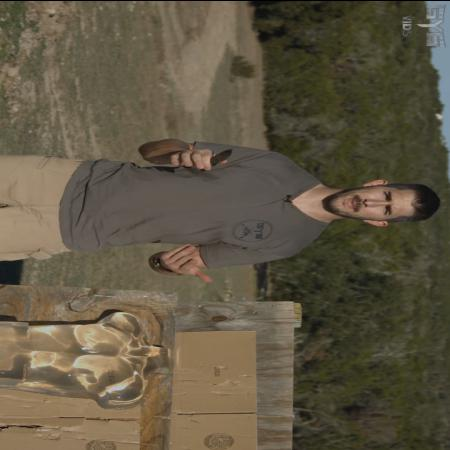long weapon: (192, 143, 240, 171)
